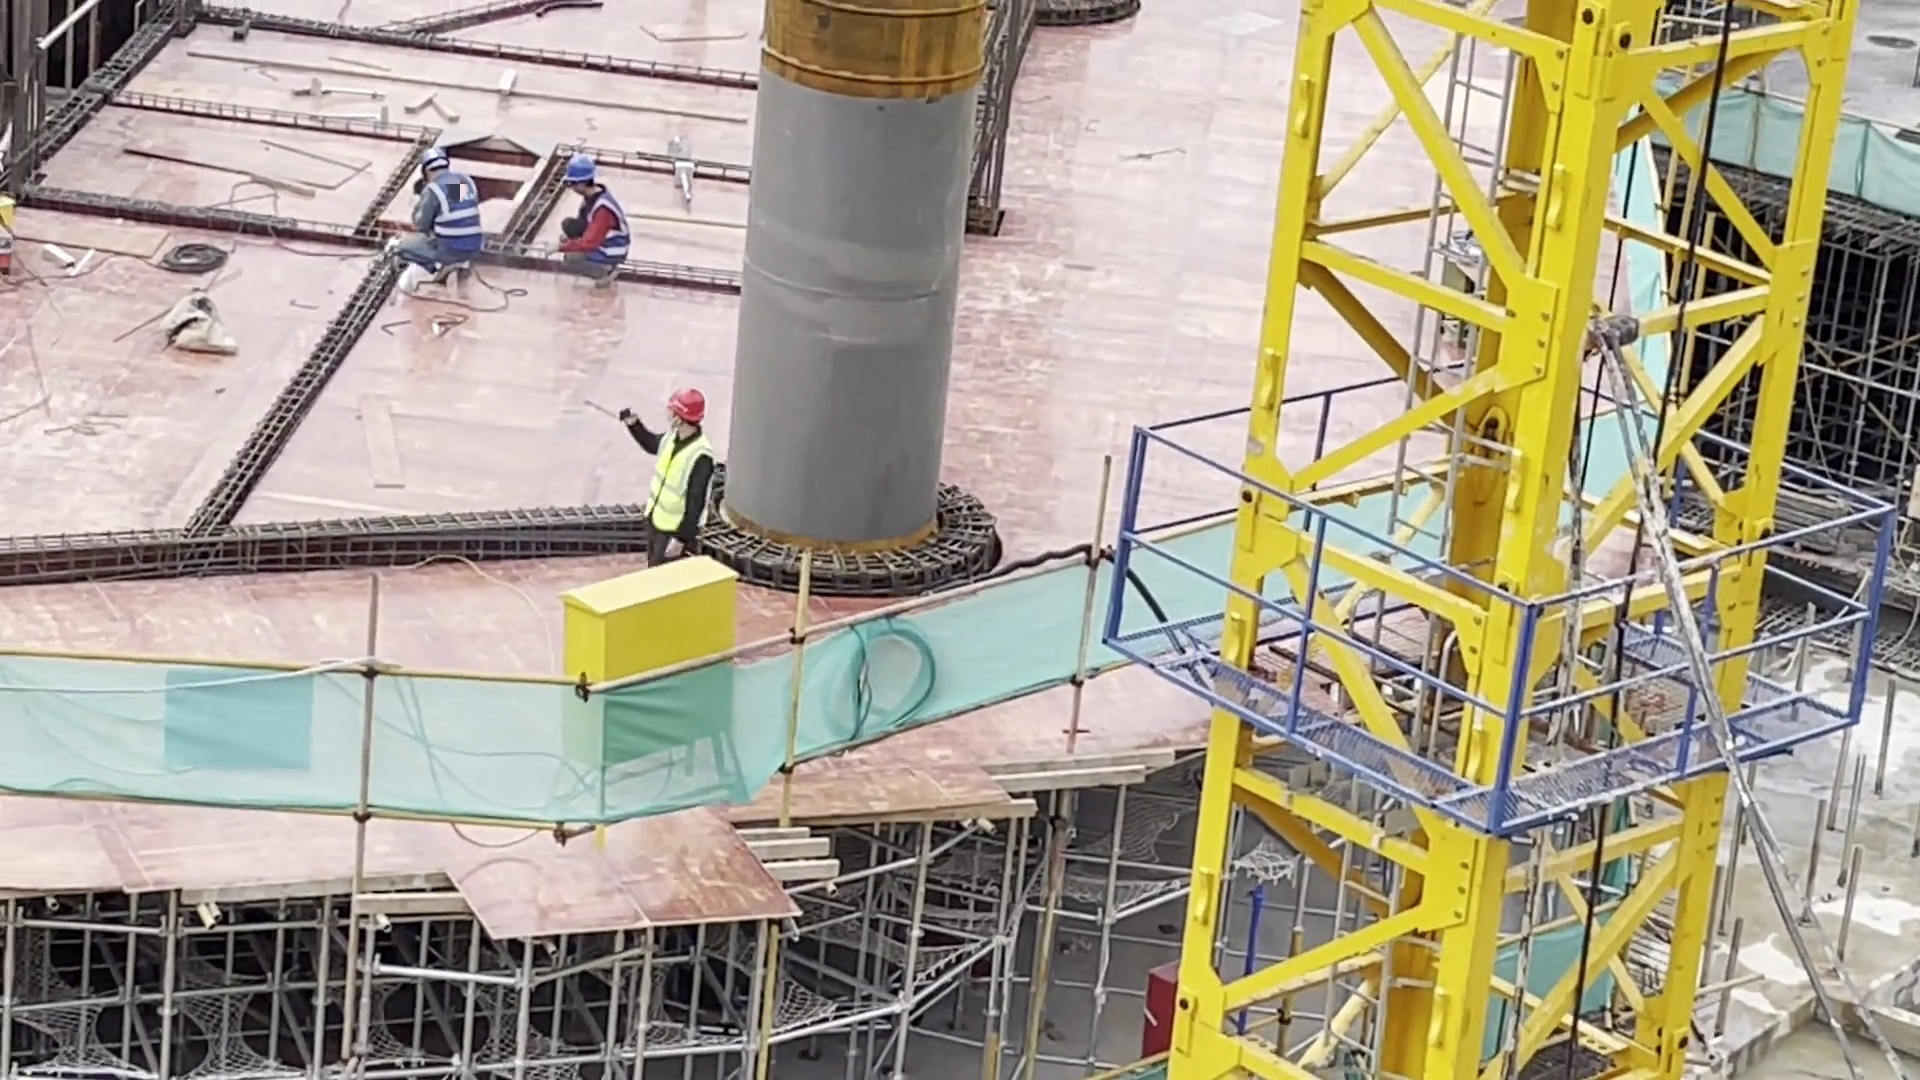helmet: (668, 388, 705, 424), (563, 157, 596, 185), (417, 146, 449, 168)
person: (613, 388, 711, 572), (397, 146, 482, 292), (548, 156, 633, 288)
vest: (644, 425, 709, 545), (417, 170, 483, 255), (576, 192, 633, 264)
